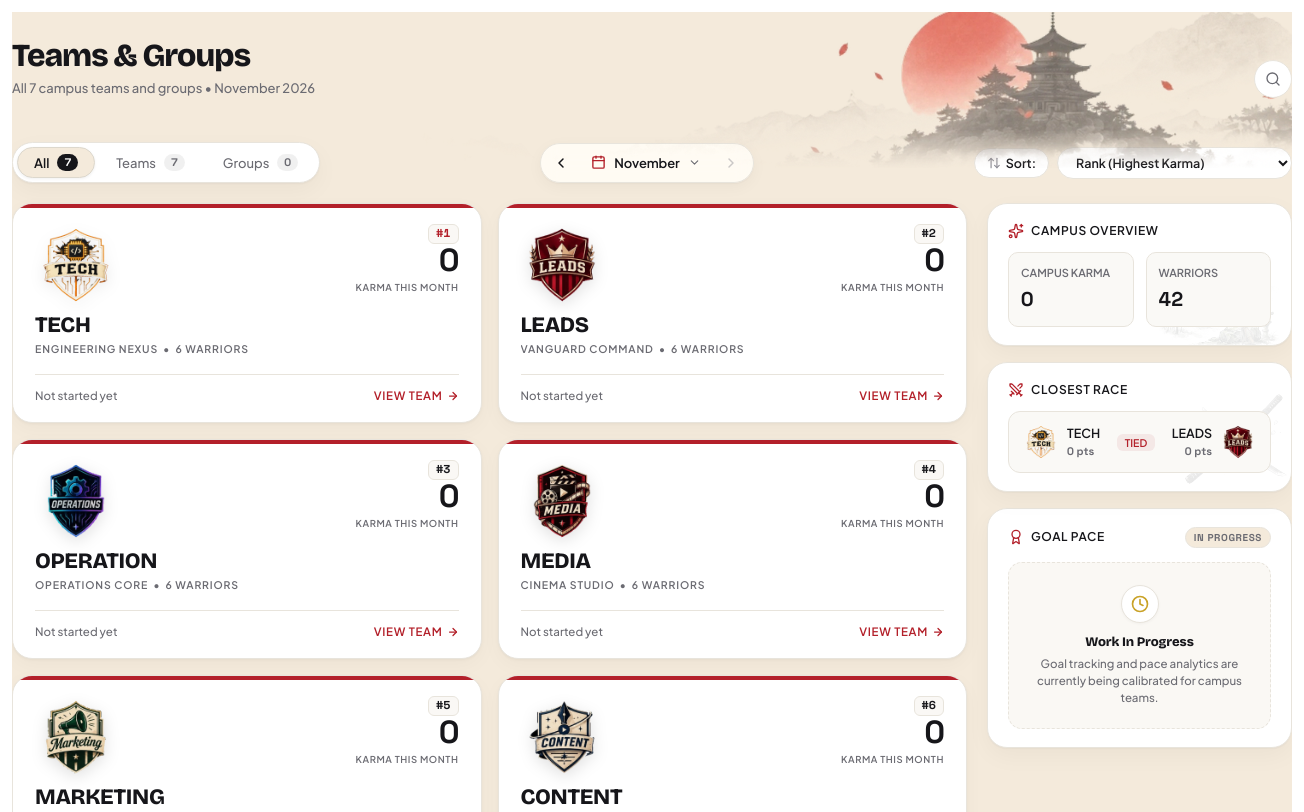
Scenario: GroupsPage Filter Tabs › toggles reverse sort order when clicking the Sort button
// Click to reverse
Click the button with aria-label "reverse sort".
click(1011, 163)  # box [974,148,1049,178]
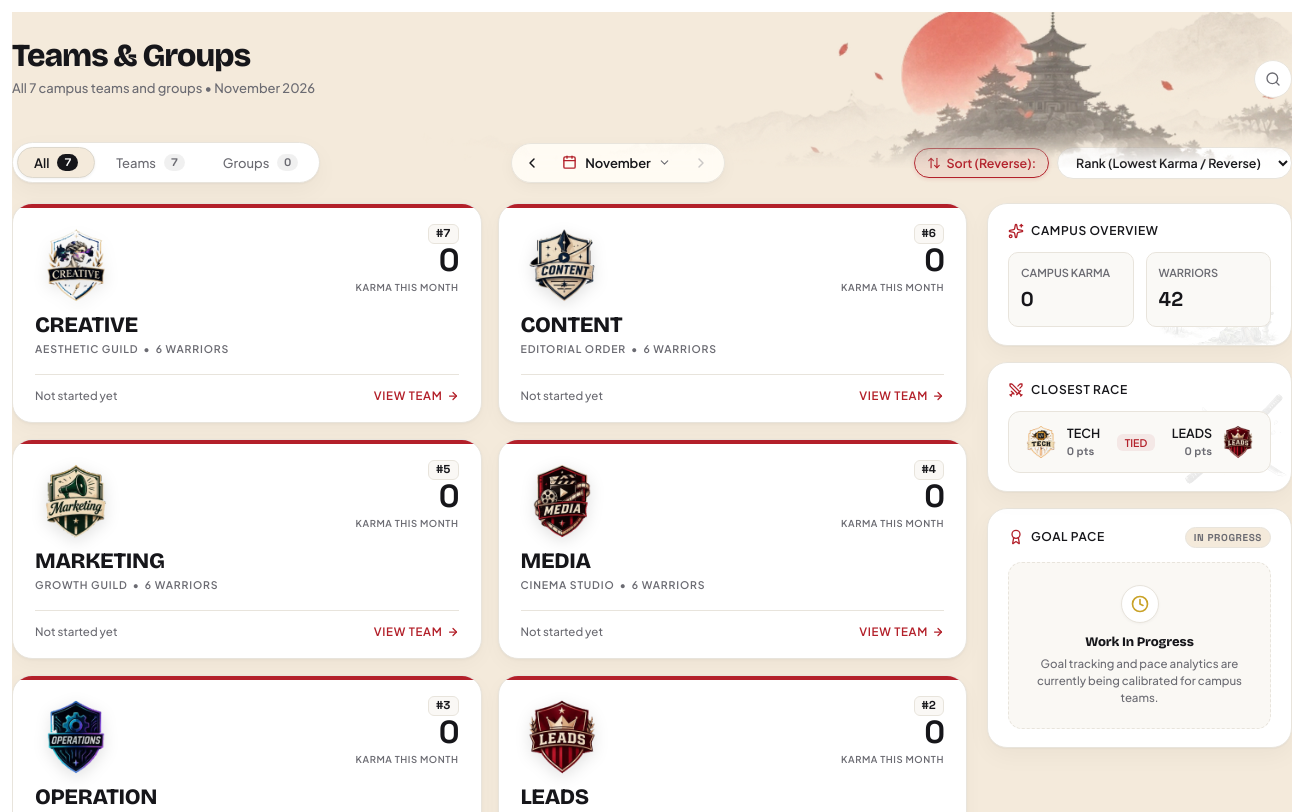
Expected: the button with aria-label "reverse sort" shows "Reverse"
// Click again to un-reverse
Click the button with aria-label "reverse sort".
click(982, 163)  # box [914,148,1049,178]
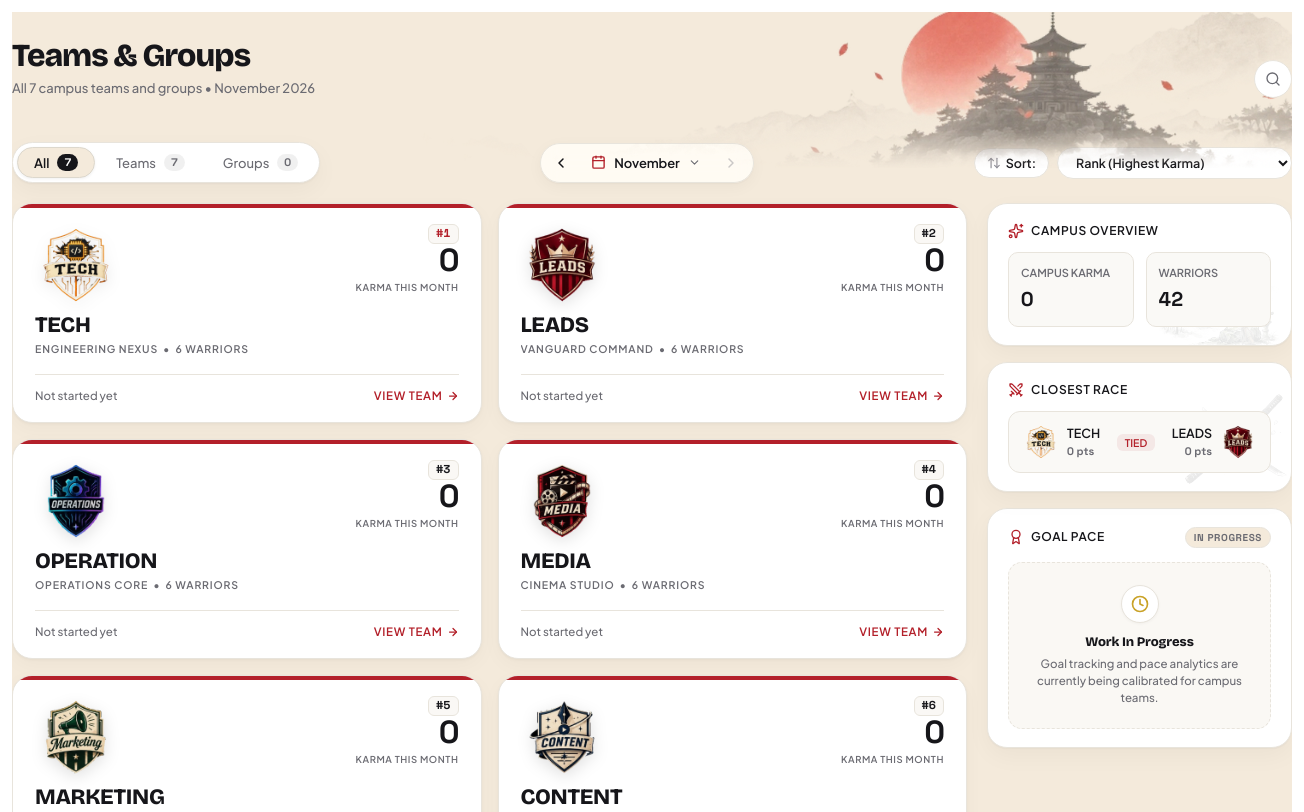
Expected: the button with aria-label "reverse sort" reads "Sort:", [974,148,1049,178]
